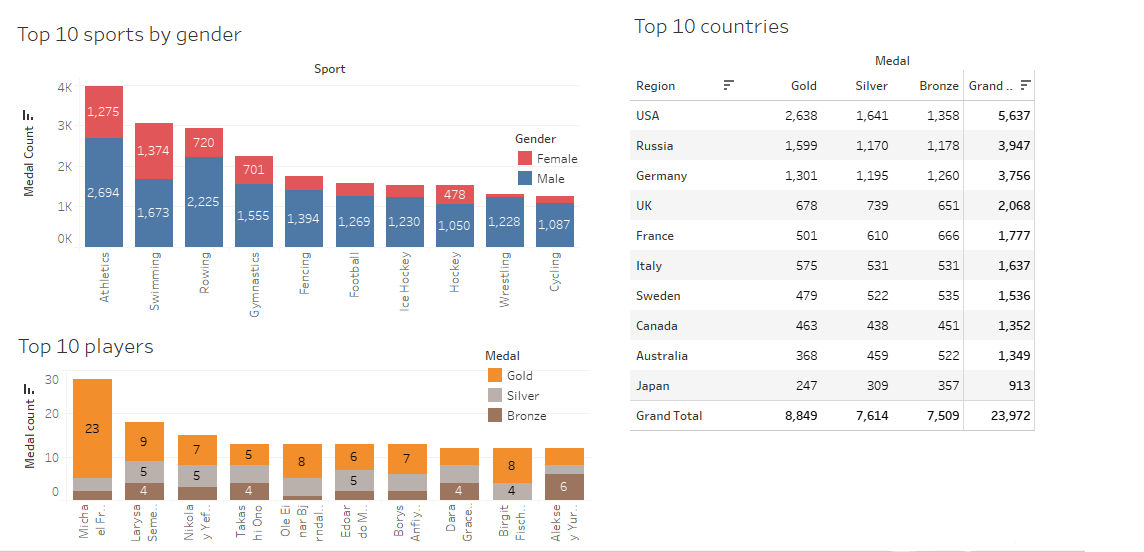

The page's visual inventory and layout, read from the dashboard file:
{"tool":"tableau","page":{"name":"Dashboard 2","canvas":[1000,1000],"units":"permille","ordinal":1},"visuals":[{"type":"worksheet","title":"Top 10 countries","mark":"Automatic","rows":["Region"],"cols":["Medal"],"box":[547.2,16.3,361,786.2]},{"type":"worksheet","title":"Top 10 sports","mark":"Automatic","rows":["Calculation_562105553266966532"],"cols":["Sport"],"box":[13,30.8,490.9,565.2]},{"type":"legend","title":"Top 10 sports","param":"[federated.1awl9pa0ekavzl1ccqk9w0aguzhr].[none:Gender:nk]","box":[447.6,239.1,121.2,105.1]},{"type":"worksheet","title":"Top 10 players","mark":"Automatic","rows":["Calculation_562105553266966532"],"cols":["Name"],"box":[13.8,596,499.6,393.1]},{"type":"legend","title":"Top 10 players","param":"[federated.1awl9pa0ekavzl1ccqk9w0aguzhr].[none:Medal:nk]","box":[421.7,632.2,121.2,141.3]}]}

Visuals, with their boxes on the dashboard's canvas, which has no fixed pixel size, in thousandths of its width and height (x1, y1, x2, y2). These are canvas units, not pixel positions in the 1144x552 screenshot, which may show the page scaled, cropped or inside an application window:
"Top 10 countries" worksheet: [547,16,908,802]
"Top 10 sports" worksheet: [13,31,504,596]
"Top 10 sports" legend: [448,239,569,344]
"Top 10 players" worksheet: [14,596,513,989]
"Top 10 players" legend: [422,632,543,774]
